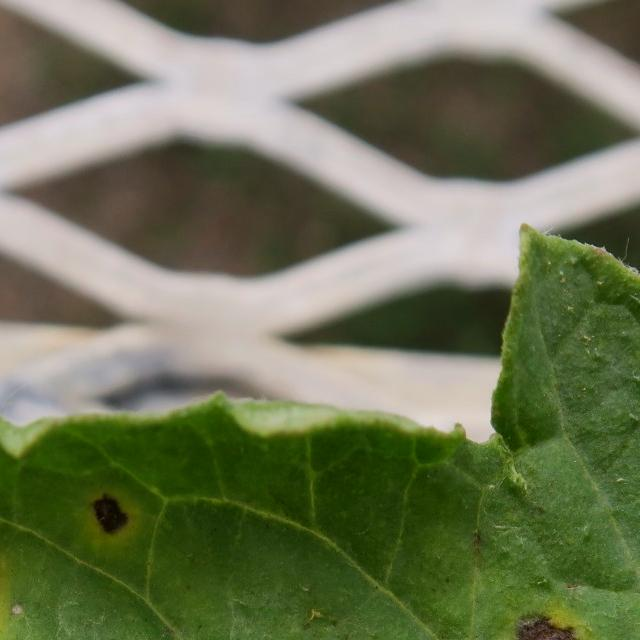Tomato Early blight leaf: (0, 248, 640, 640)
